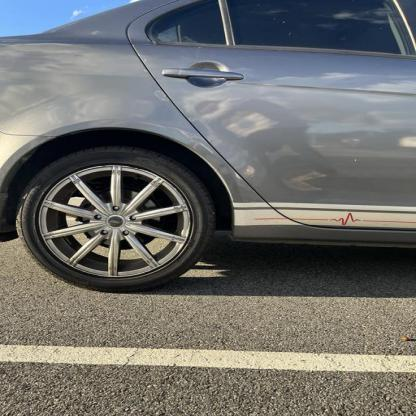Tire: (16, 143, 217, 292)
